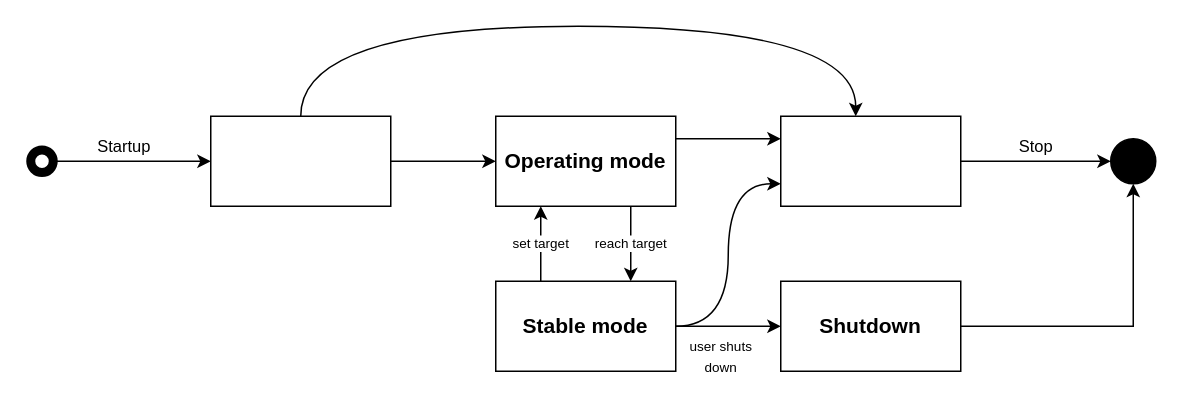
This 1182x402 diagram has some shape labels left out. Each missing label, with the box of its shape:
Emergency stop: (779, 115, 961, 206)
Initialization: (209, 115, 391, 206)
